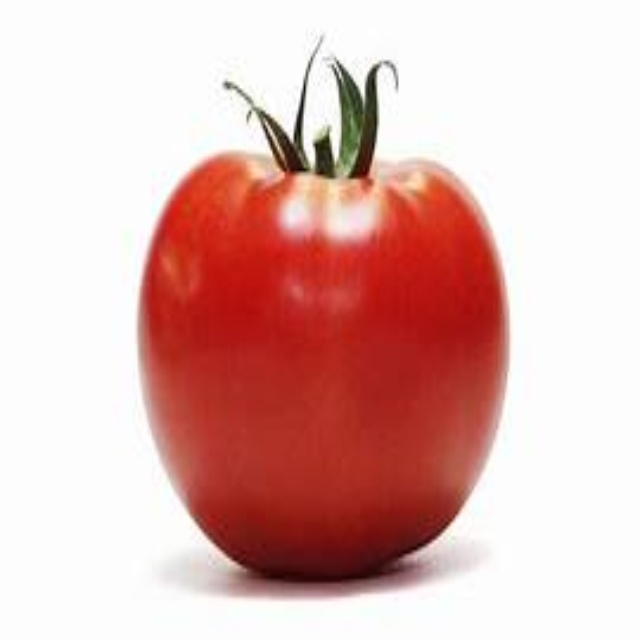tomato: (114, 115, 531, 593)
